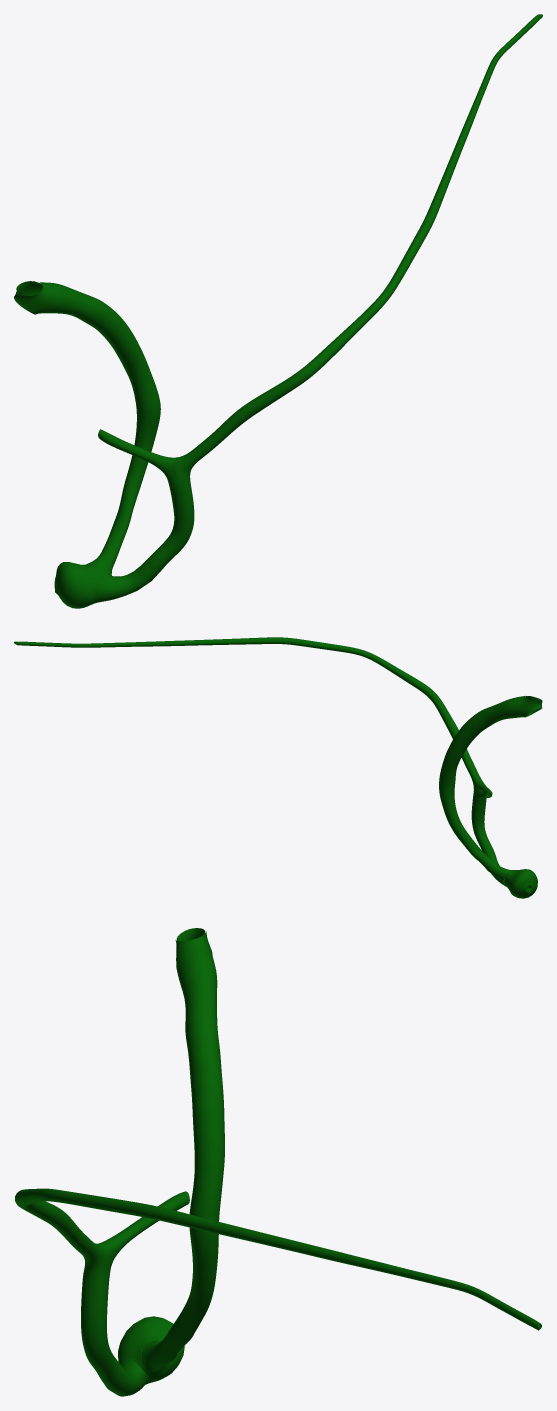
File: VH_M_Ducts_of_Pancreas.glb
3 renders of one model, top to bottom at view 1: azimuth 30°, elevation 25°; view 2: azimuth 150°, elevation 25°; view 3: azimuth 270°, elevation 25°, orthographic. The views are drawn at different scales.
Parts seen in each view (by area): view 1: VH_M_ventral_pancreatic_duct, VH_M_common_bile_duct, VH_M_hepatopancreatic_ampulla, VH_M_dorsal_pancreatic_duct; view 2: VH_M_ventral_pancreatic_duct, VH_M_common_bile_duct, VH_M_hepatopancreatic_ampulla; view 3: VH_M_common_bile_duct, VH_M_ventral_pancreatic_duct, VH_M_hepatopancreatic_ampulla, VH_M_dorsal_pancreatic_duct.
Part boxes in pixels (x1,y1,x2,y2): VH_M_ventral_pancreatic_duct: [99, 14, 542, 602]; VH_M_common_bile_duct: [14, 281, 160, 573]; VH_M_hepatopancreatic_ampulla: [54, 562, 111, 608]; VH_M_dorsal_pancreatic_duct: [98, 429, 176, 476]; VH_M_ventral_pancreatic_duct: [14, 637, 506, 886]; VH_M_common_bile_duct: [439, 696, 542, 881]; VH_M_hepatopancreatic_ampulla: [503, 869, 537, 898]; VH_M_common_bile_duct: [141, 928, 224, 1371]; VH_M_ventral_pancreatic_duct: [15, 1188, 541, 1396]; VH_M_hepatopancreatic_ampulla: [118, 1316, 184, 1384]; VH_M_dorsal_pancreatic_duct: [101, 1191, 189, 1262].
Bounding box in the file's own units: 0.1149 × 0.0565 × 0.0594.
